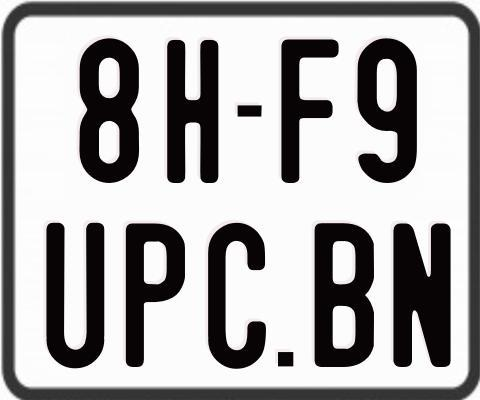8: (77, 35, 141, 181)
9: (354, 38, 417, 183)
B: (314, 221, 373, 371)
C: (206, 223, 266, 374)
F: (279, 37, 337, 182)
H: (164, 37, 215, 183)
N: (393, 223, 456, 371)
P: (125, 220, 185, 366)
U: (44, 223, 104, 368)
